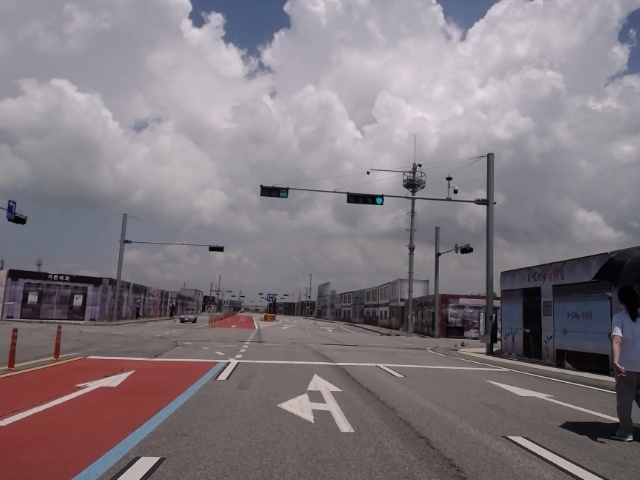straight_green_4: (347, 194, 384, 206)
